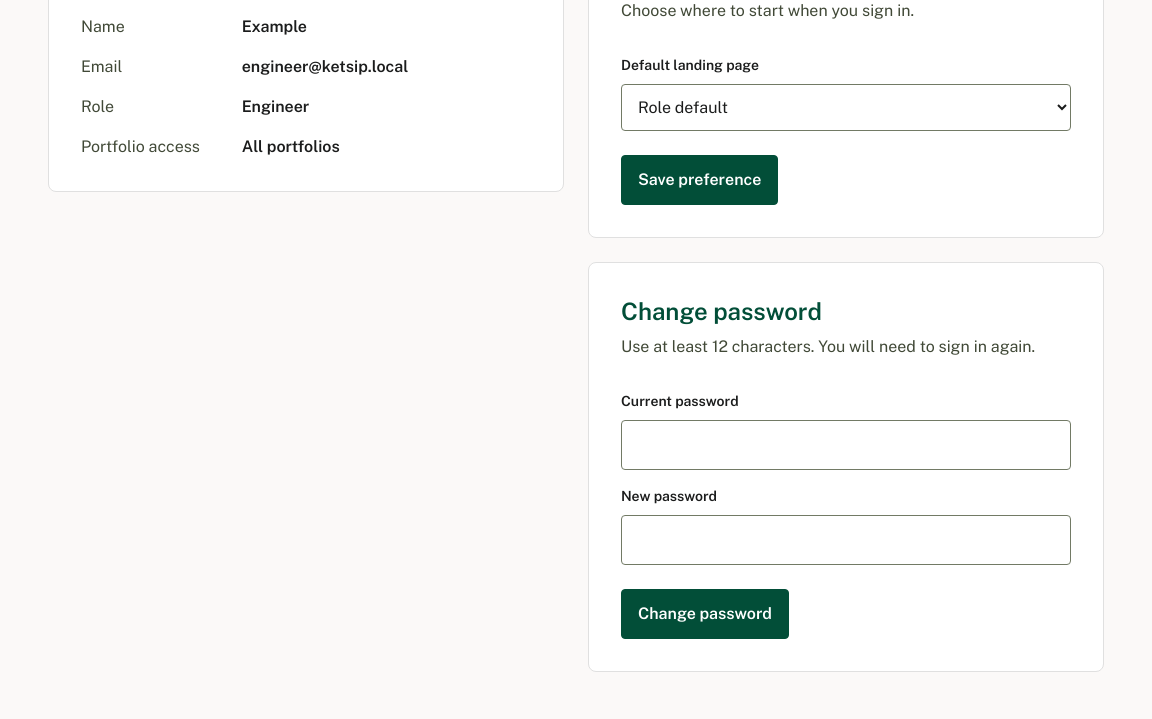
Scenario: identity forms › displays password errors without signing out
The width and height of the screenshot is (1152, 719).
(page scrolled)
Type "wrong-password" into the password field labelled "Current password" at (846, 445), box [621, 420, 1071, 470]
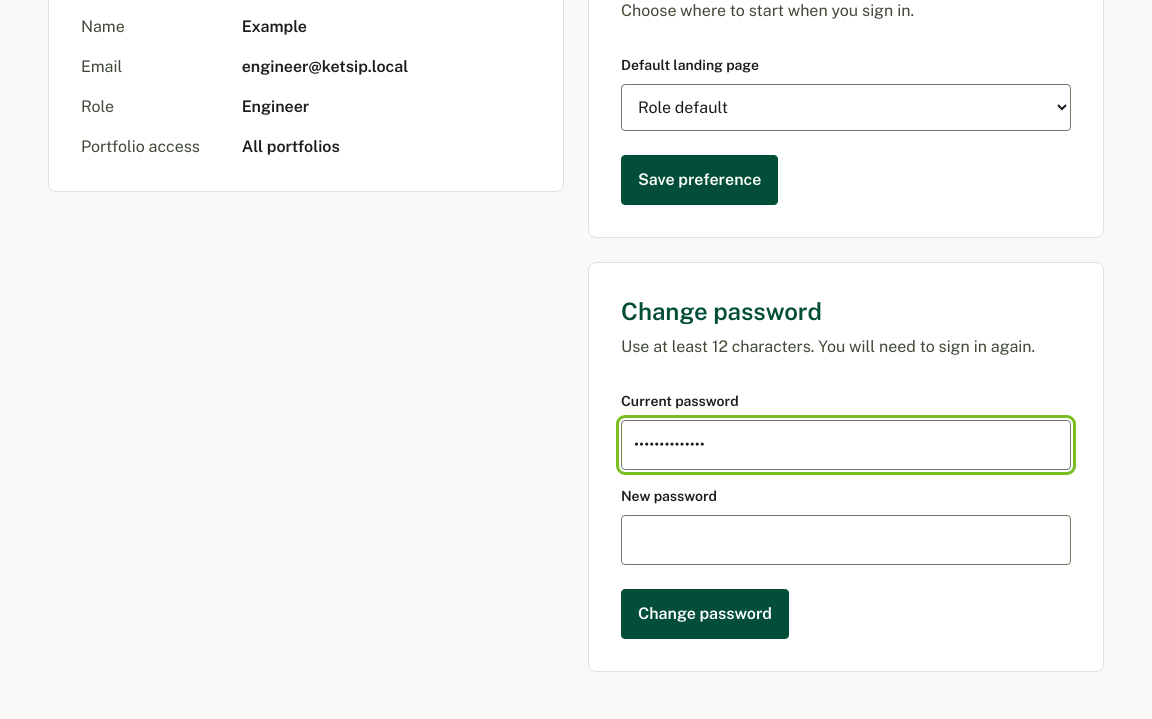
Type "Replacement-password-456" into the password field labelled "New password" at (846, 540), box [621, 515, 1071, 565]
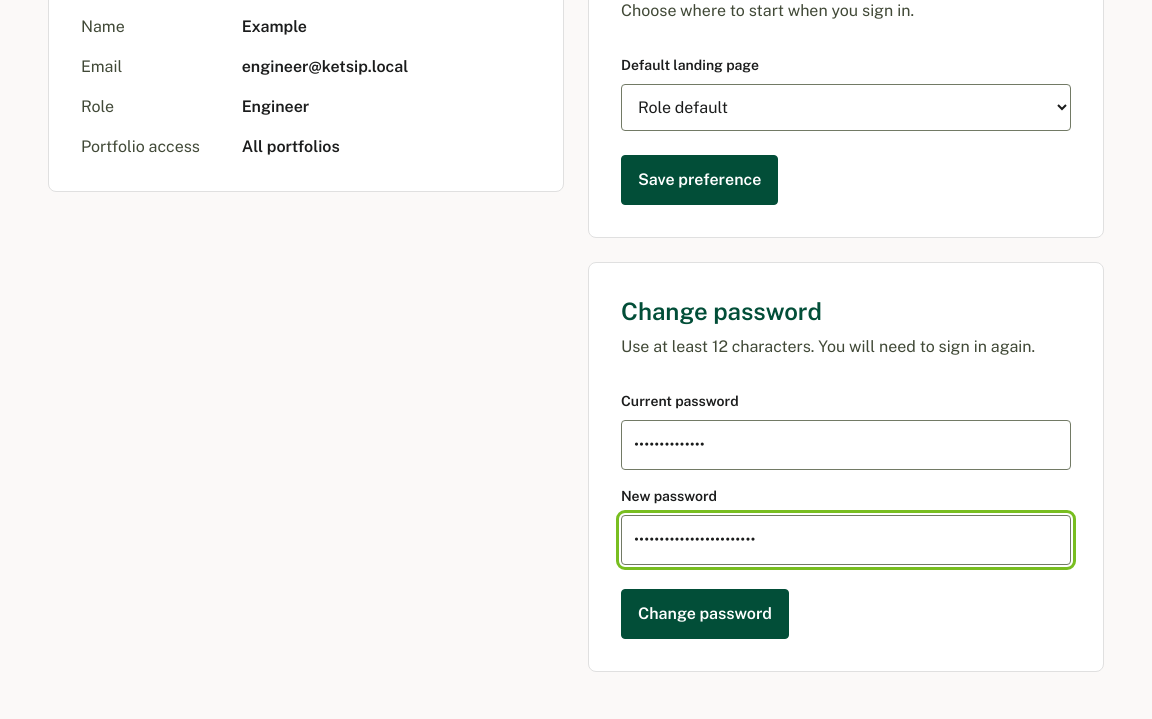
Click the button "Change password" at (705, 614), box [621, 589, 789, 639]
(page scrolled)
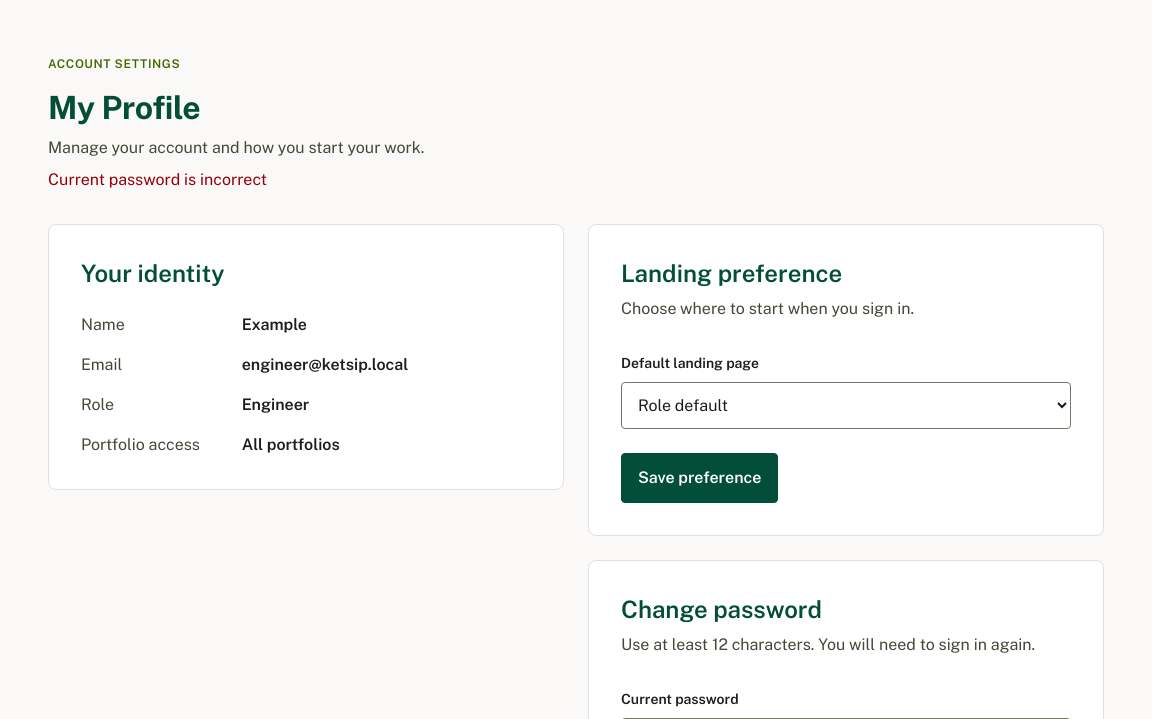
Now the message reads "Current password is incorrect", box [48, 170, 267, 189]
